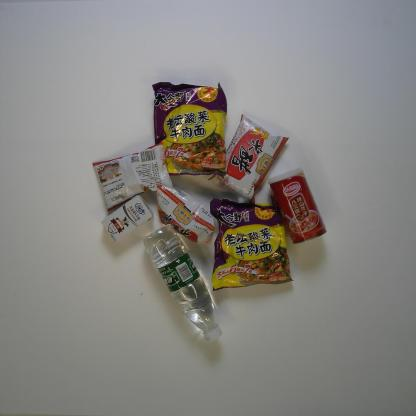Canned Food: (266, 166, 328, 246)
Drink: (141, 222, 223, 342)
Instant Noodles: (210, 196, 294, 292), (151, 80, 229, 178)
Milk: (100, 192, 155, 243)
Seasoner: (208, 112, 290, 204), (90, 142, 174, 213), (152, 182, 216, 246)
